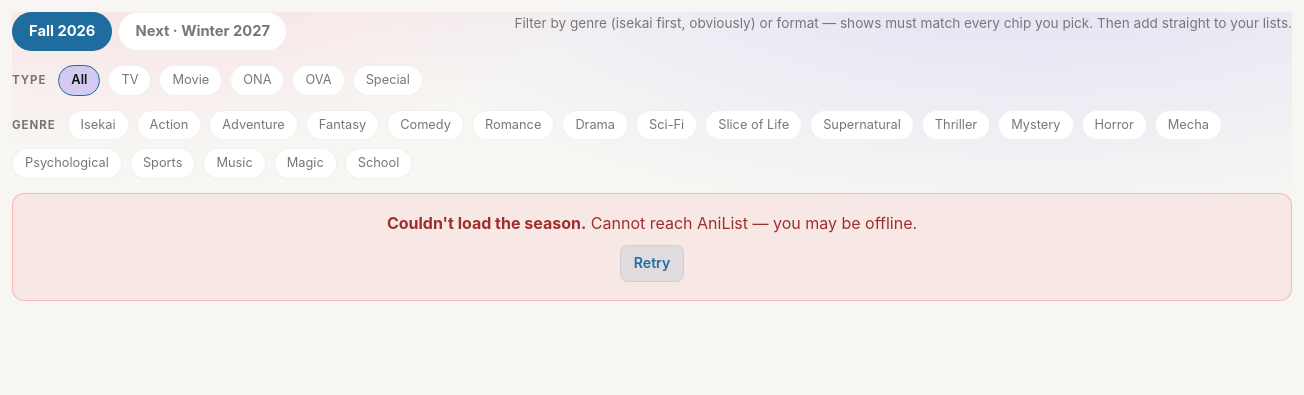
SeasonBrowse — season browse page › failure shows a visible error with Retry (D5-style)
expect the text "Couldn't load the season." is shown: met, box [387,213,586,233]
Click the button "Retry": [652, 263] box [620,245,684,282]
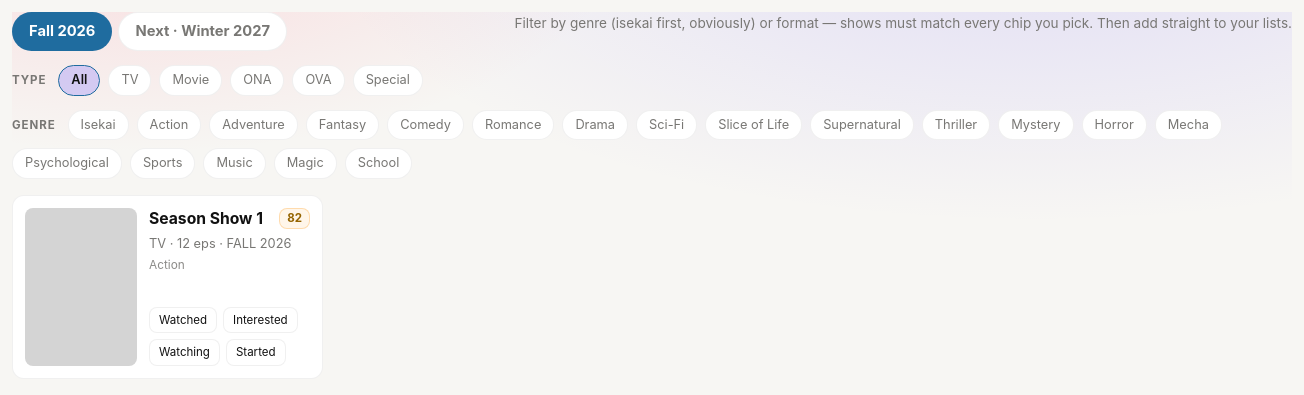
expect the heading "Season Show 1" is shown: met, box [149,208,263,231]
